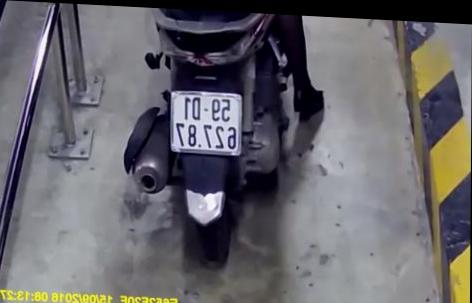License_Plate: (164, 87, 249, 161)
